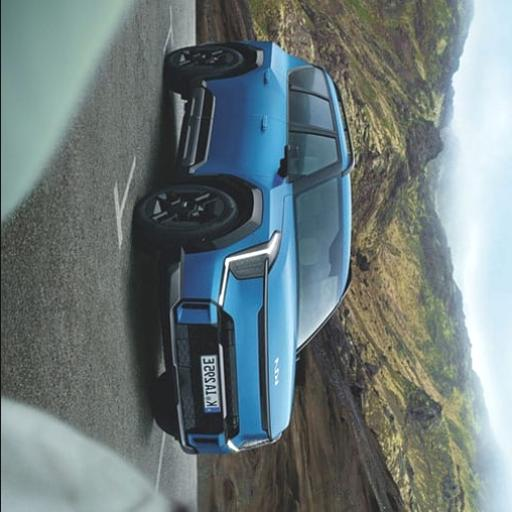suv: (134, 42, 353, 455)
